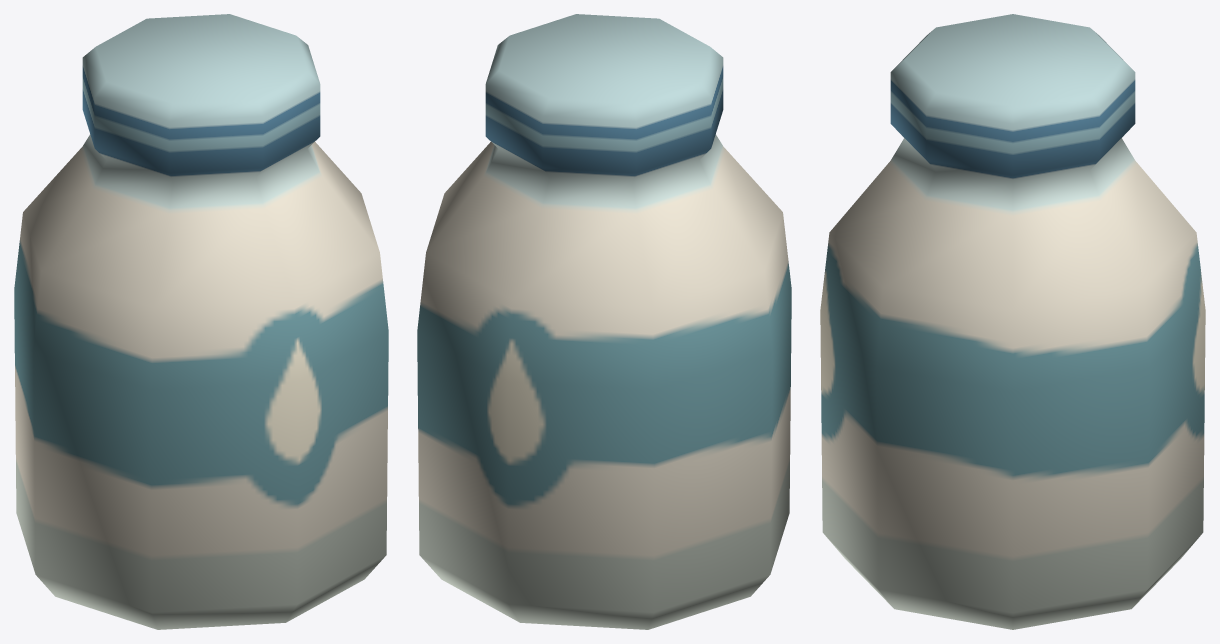
Rendered from milk.glb.
The picture shows the model from 3 angles, left to right: view 1: azimuth 30°, elevation 25°; view 2: azimuth 150°, elevation 25°; view 3: azimuth 270°, elevation 25°; orthographic projection.
Visible parts, largest first — view 1: MilkBottle; view 2: MilkBottle; view 3: MilkBottle.
Part boxes in pixels (bbox=[...]): MilkBottle: bbox=[14, 14, 388, 629]; MilkBottle: bbox=[417, 14, 791, 629]; MilkBottle: bbox=[820, 14, 1205, 629].
Size of the model in its own units: 0.17 by 0.243 by 0.17.
1 material, 1 textured.
